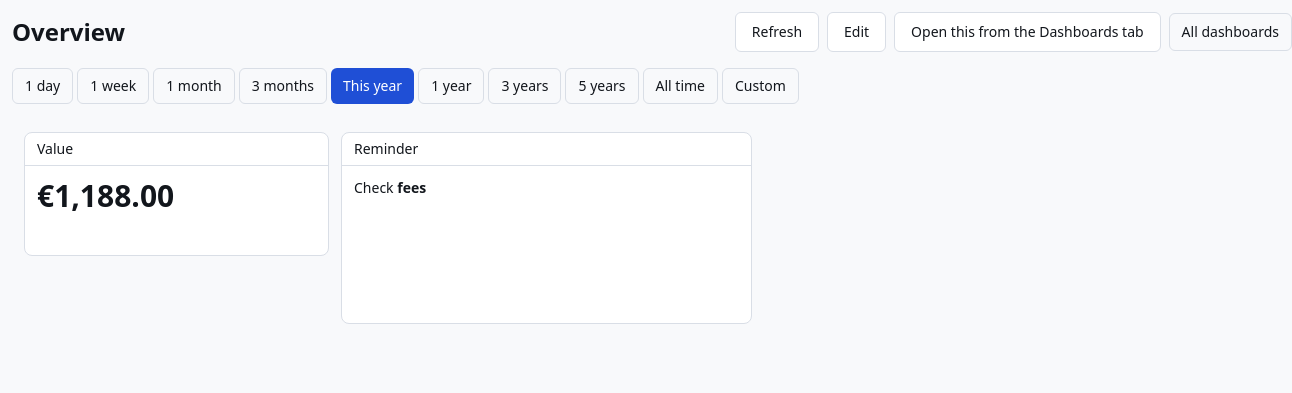
Test: Home › shows the editing controls only in edit mode
Expected: the text "€1,188.00" is shown, [37, 175, 174, 216]
Click the button "Edit". click: (857, 32)
box: [827, 12, 886, 52]
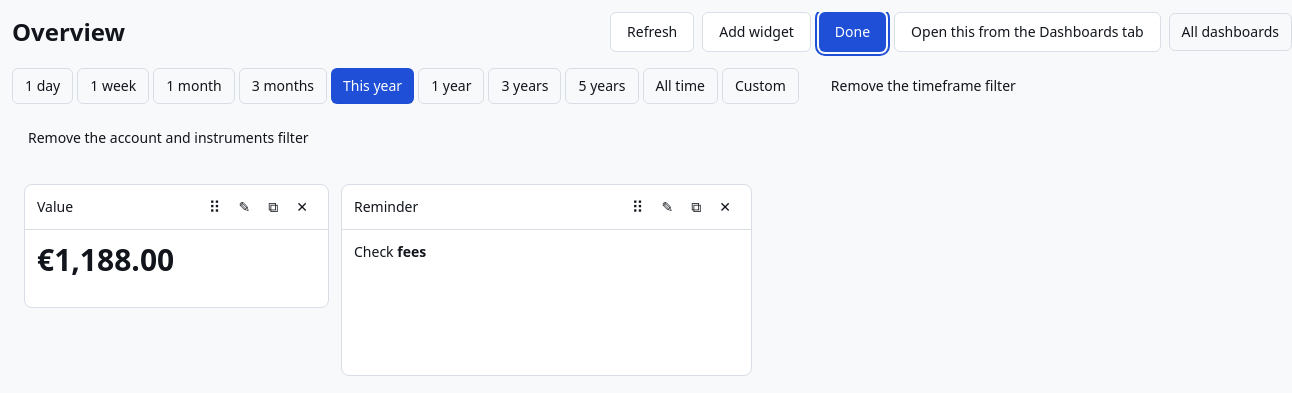
Expected: the button named "Settings of Reminder" is shown, [654, 191, 681, 223]
Expected: the button named "Move Reminder" is shown, [624, 191, 652, 223]
Expected: the button "Add widget" is shown, [702, 12, 811, 52]
